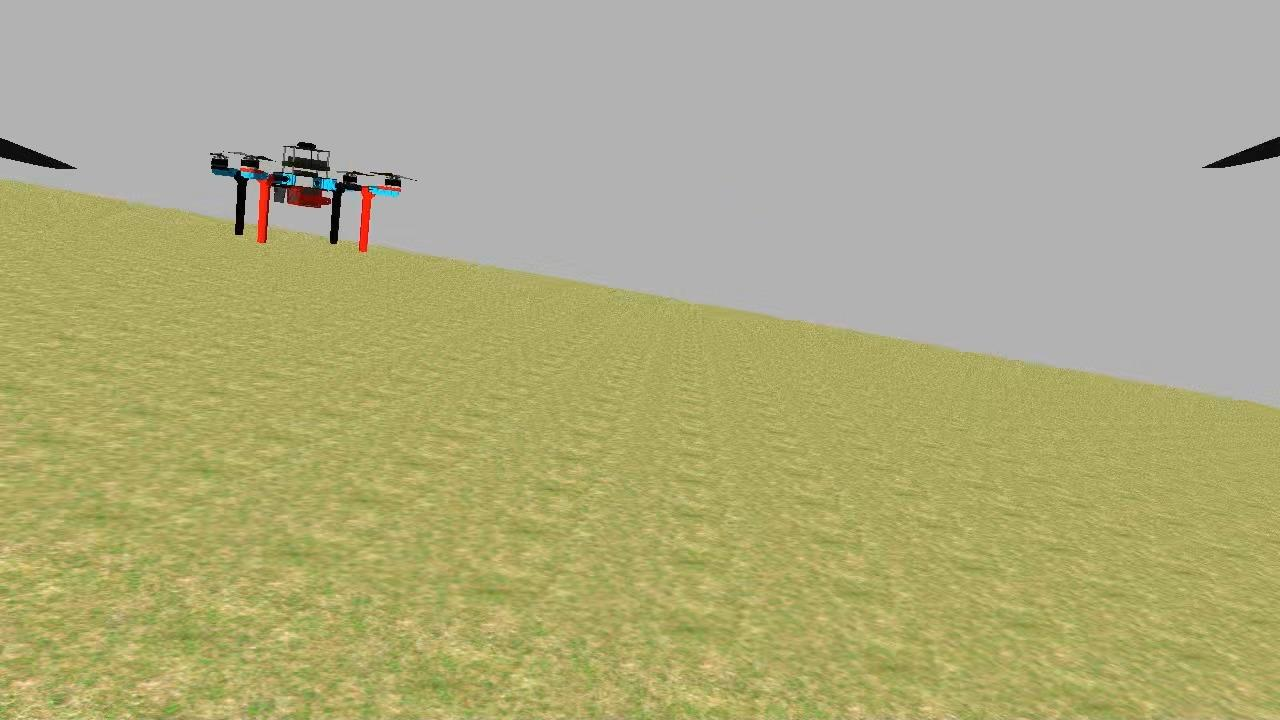UAV: (200, 136, 407, 260)
